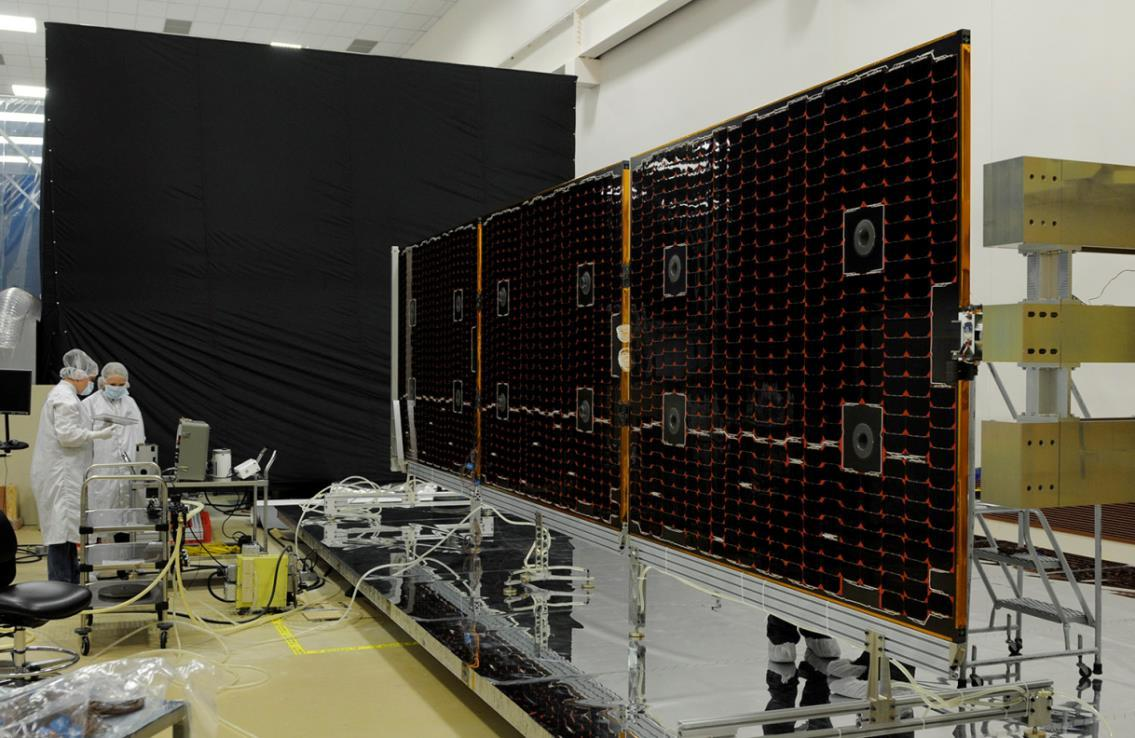solar: (389, 26, 975, 649)
